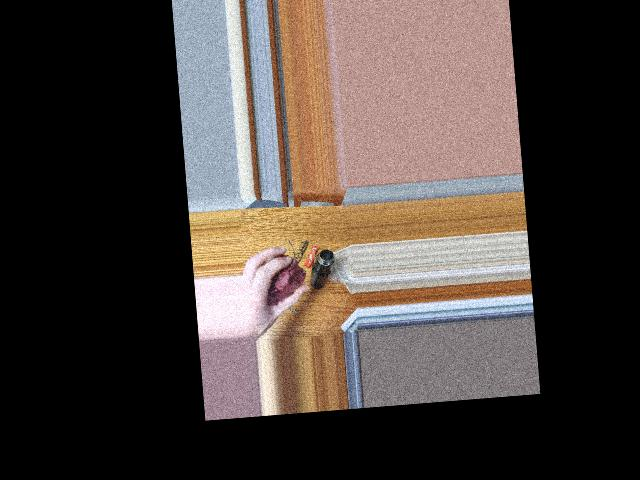onion: (262, 257, 303, 306)
